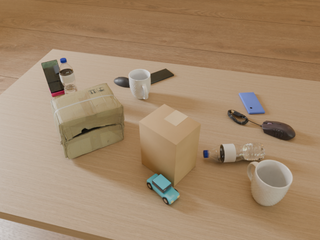bottle: (203, 143, 265, 162), (59, 58, 78, 95)
box: (51, 83, 124, 159), (139, 104, 201, 186)
cup: (247, 160, 293, 206), (129, 69, 151, 99)
mouse: (260, 121, 295, 140), (114, 77, 130, 88)
phone: (41, 60, 64, 94), (239, 92, 265, 114), (150, 69, 174, 84)
toy_car: (147, 173, 179, 204)
